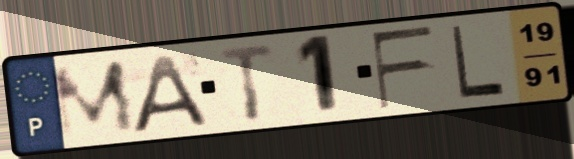1: (292, 32, 343, 119)
A: (127, 51, 211, 135)
F: (367, 22, 438, 112)
L: (448, 22, 508, 101)
M: (47, 56, 141, 142)
T: (216, 41, 278, 124)
